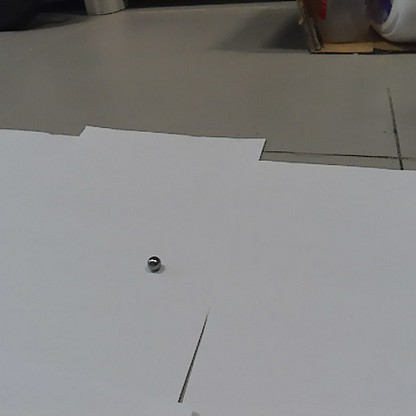ironball: (146, 254, 163, 271)
